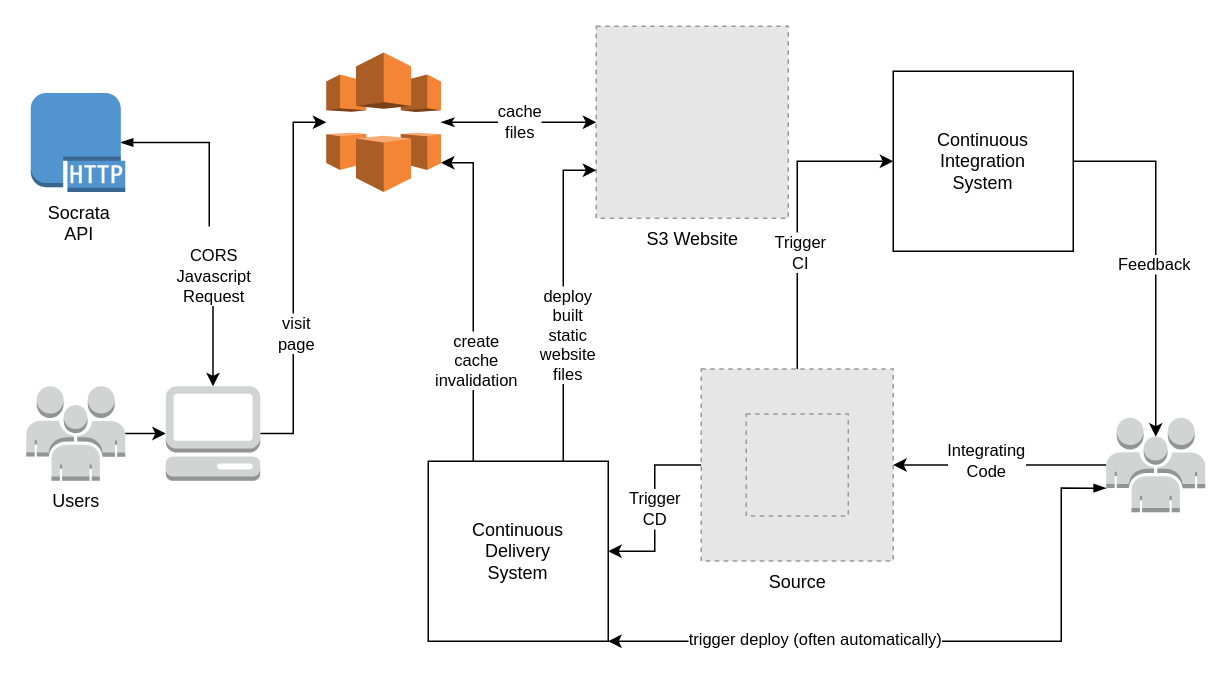
This 1232x681 diagram has some shape labels left out. Grey dashed boxes stand in for pictures. Each missing label, with the centre of its shape:
"Client Browser" belongs at point 212,433.
"CloudFront Content Delivery" belongs at point 383,121.
"Developers" belongs at point 1155,464.
